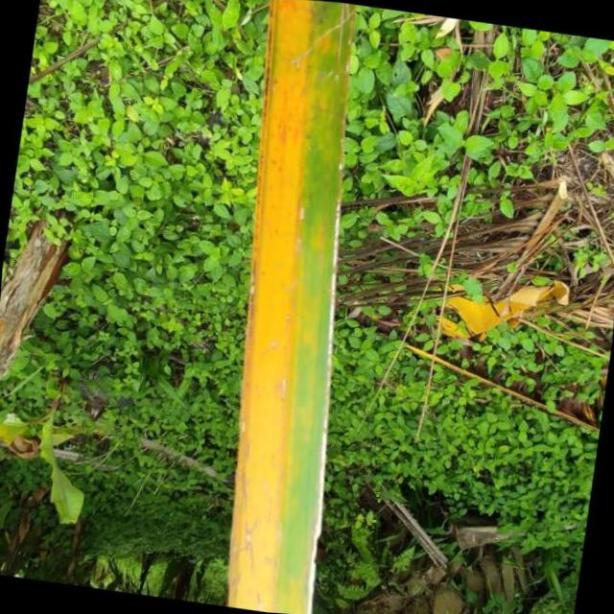Megnesium: (227, 0, 353, 614)
